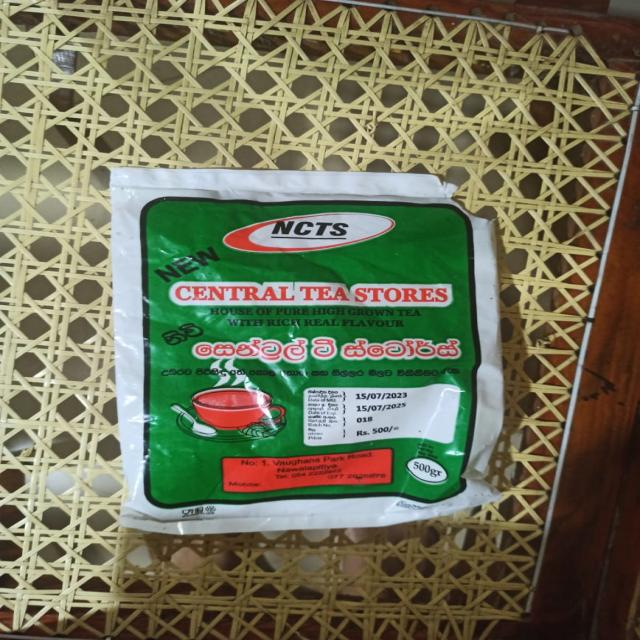Central Tea: (106, 168, 511, 569)
